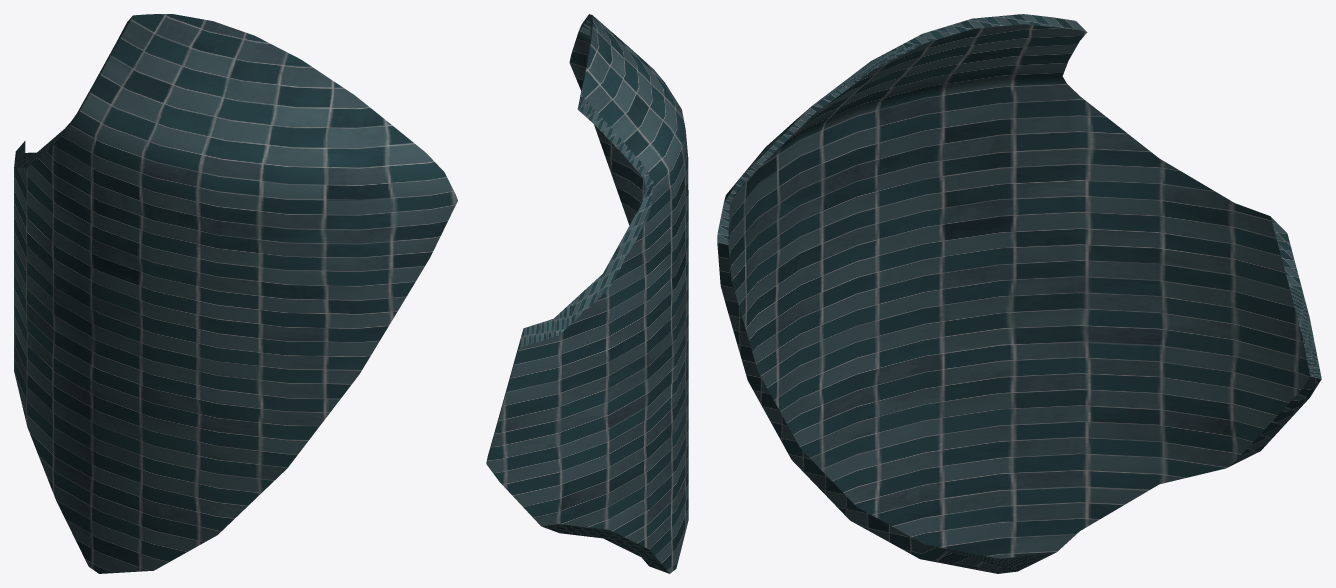
3 renders of one model, left to right at view 1: azimuth 30°, elevation 25°; view 2: azimuth 150°, elevation 25°; view 3: azimuth 270°, elevation 25°, orthographic. The views are drawn at different scales.
Parts seen in each view (by area): view 1: Cylinder_cell.004; view 2: Cylinder_cell.004; view 3: Cylinder_cell.004.
Part boxes in pixels (left/top/right/bottom): Cylinder_cell.004: left=14, top=14, right=457, bottom=573; Cylinder_cell.004: left=486, top=14, right=688, bottom=573; Cylinder_cell.004: left=717, top=14, right=1321, bottom=573.
Bounding box in the file's own units: 1.13 × 2.38 × 2.13.
Materials: 1 (1 with a texture image).
